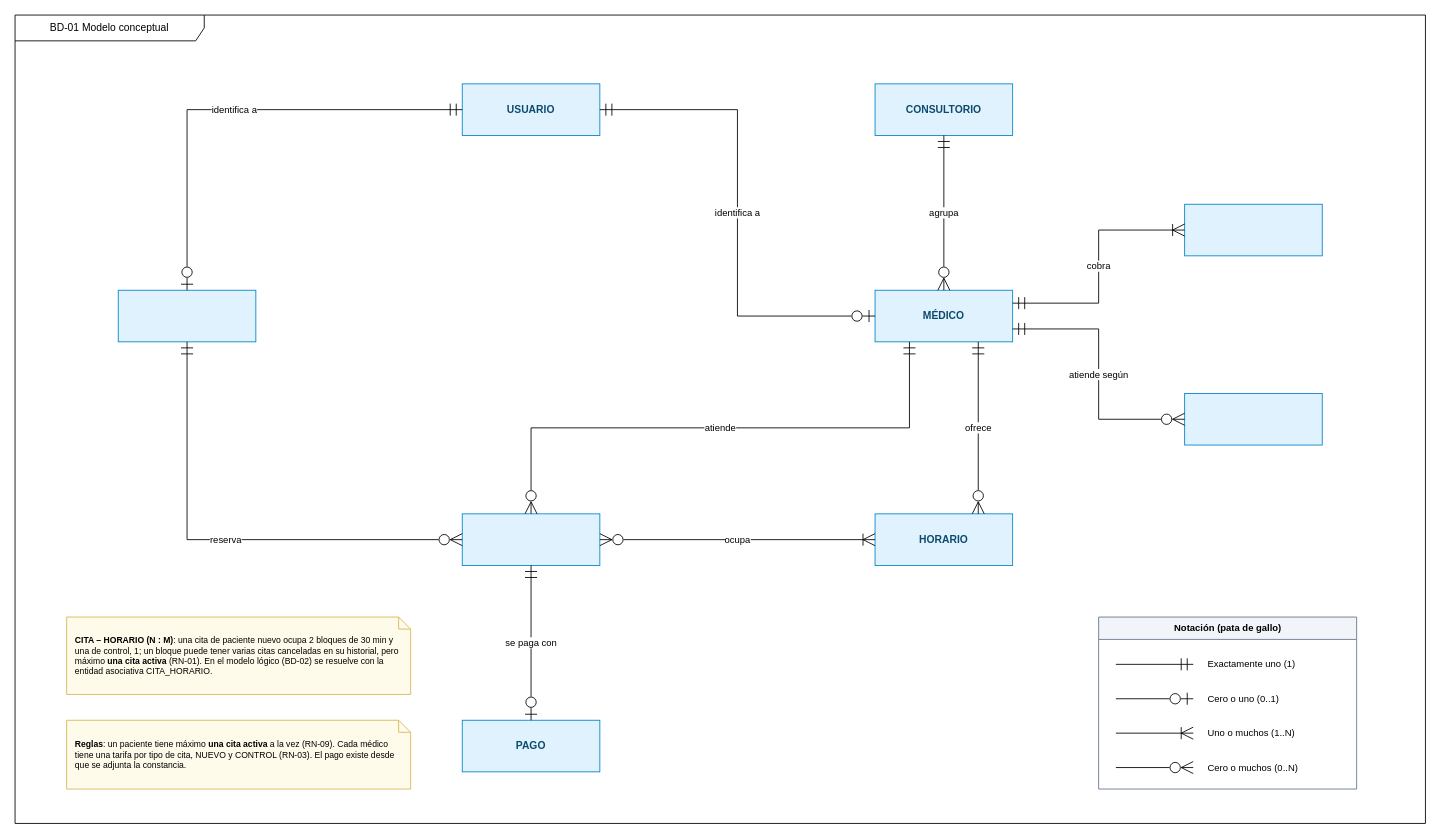
The diagram is 1441 pixels wide and 839 high, and some of its shapes have lost their labels. The box of each missing label's shape, as (x1, y1, x2, y2) in pixels:
CITA: (461, 513, 600, 565)
HORARIO_SEMANAL: (1184, 393, 1322, 445)
PACIENTE: (117, 289, 256, 342)
TARIFA: (1184, 203, 1322, 256)
